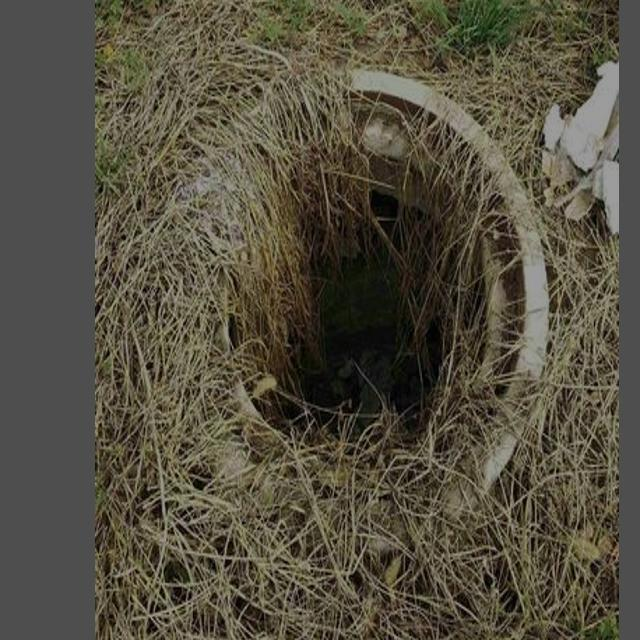lose: (153, 82, 550, 573)
